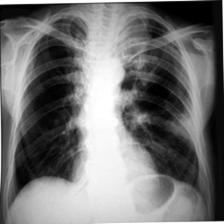tuberculosis: (7, 4, 210, 219)
